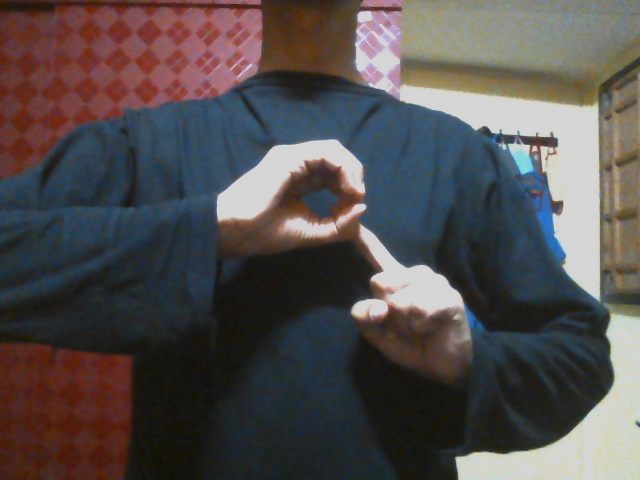Q: (224, 137, 467, 397)
